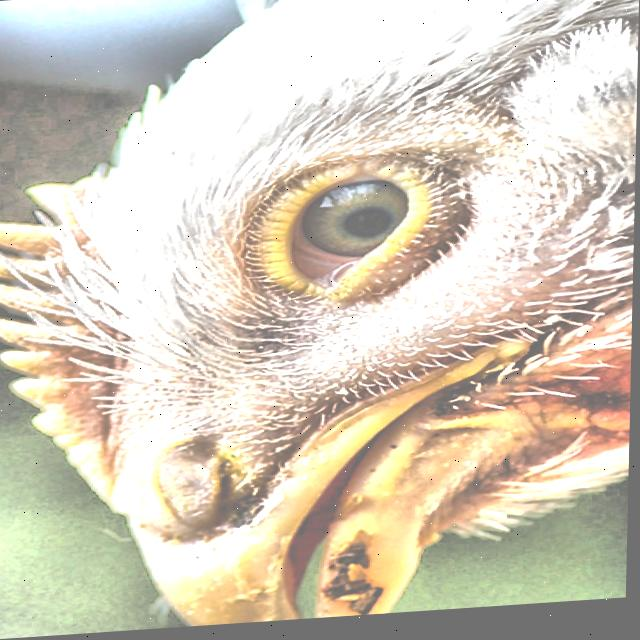Fowl cholera: (14, 282, 514, 638)
